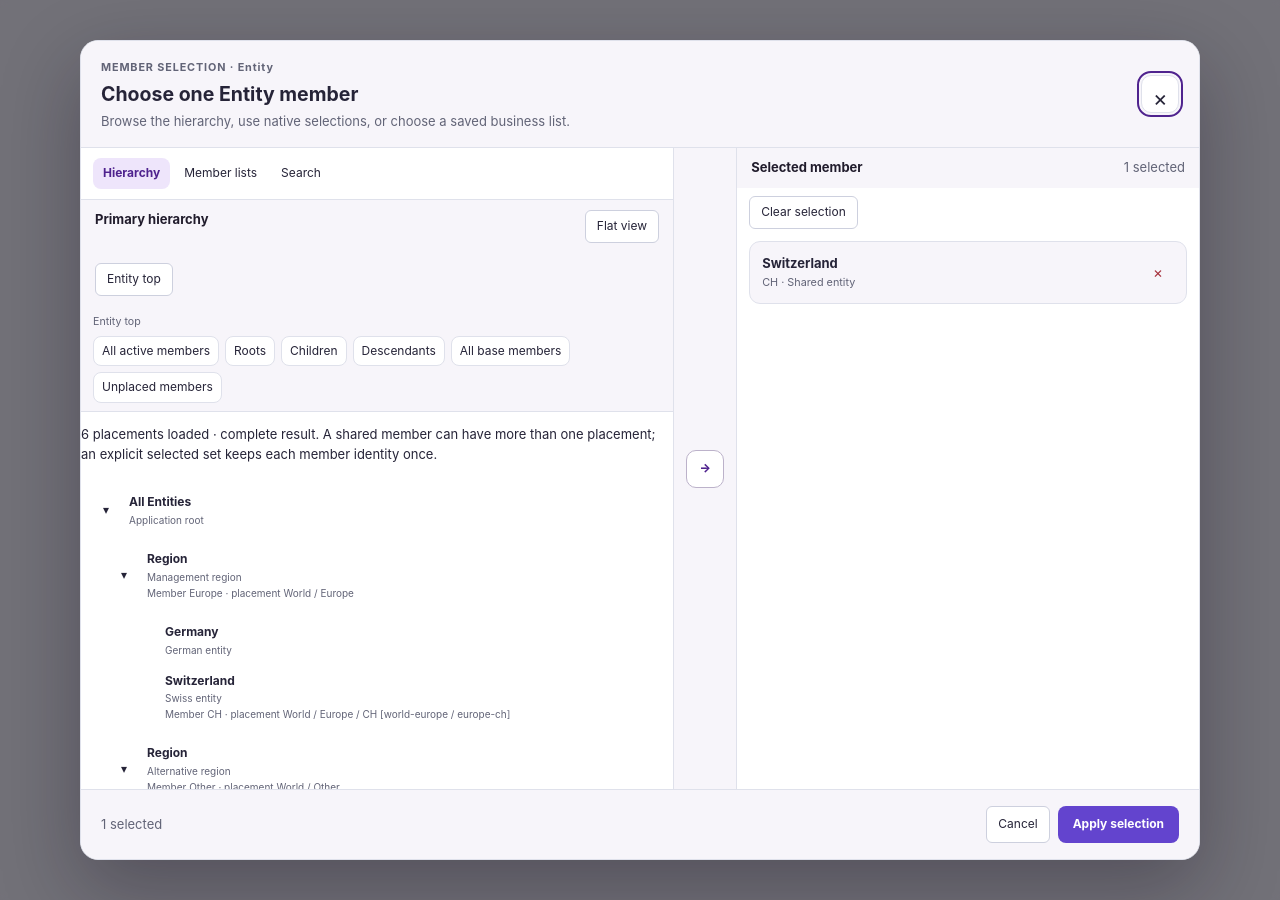
Test case: names expansion controls by exact member and placement when parent labels repeat
Click the button named "Collapse Region (Europe) · World / Europe [world-europe]".
click(124, 575)  # box left=109, top=544, right=139, bottom=607
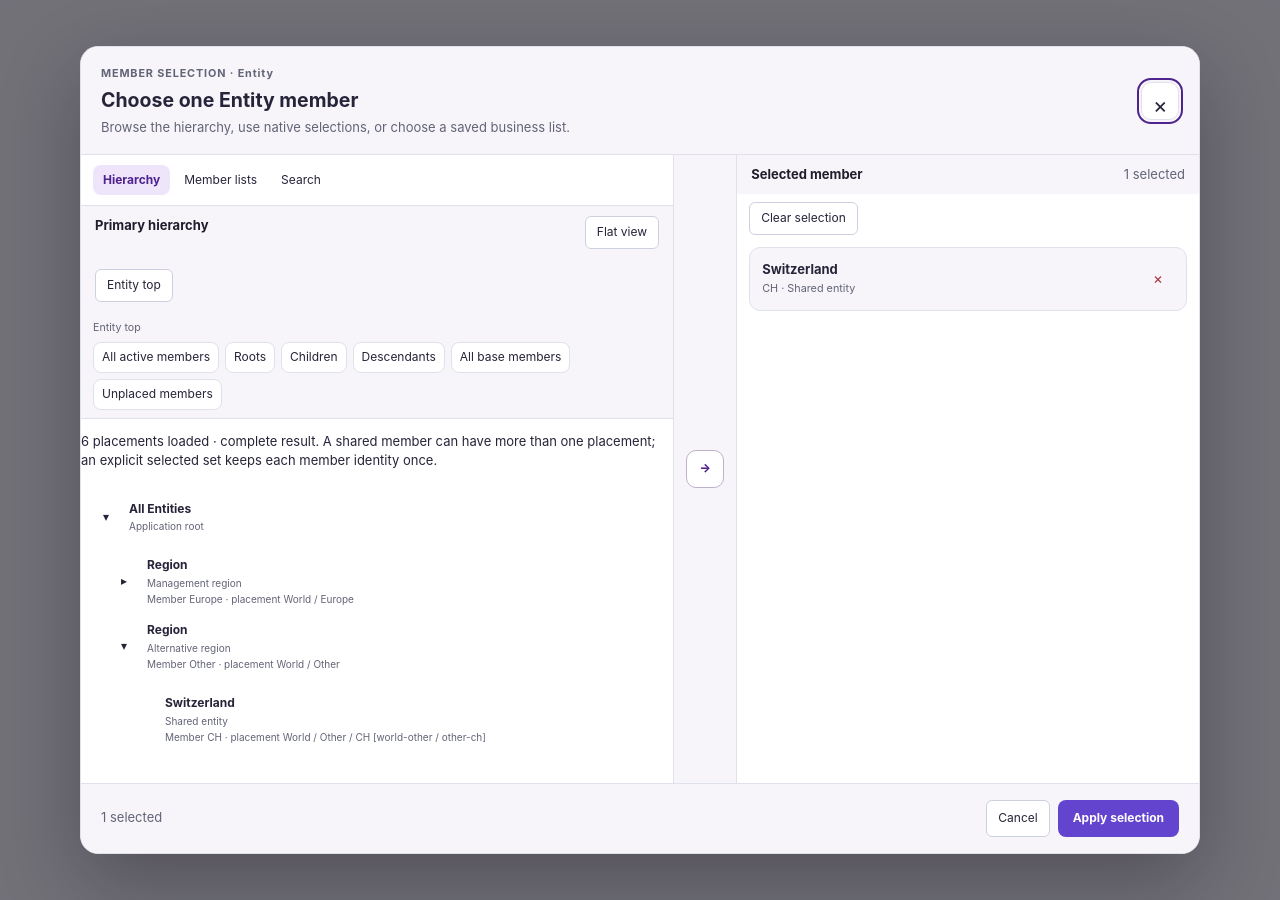
Check: the button named "Expand Region (Europe) · World / Europe [world-europe]" is collapsed
Check: the button named "Choose Switzerland (CH) · World / Other / CH [world-other / other-ch]" is shown, box left=157, top=688, right=663, bottom=751
Click the button named "Expand Region (Europe) · World / Europe [world-europe]".
click(124, 582)  # box left=109, top=550, right=139, bottom=613
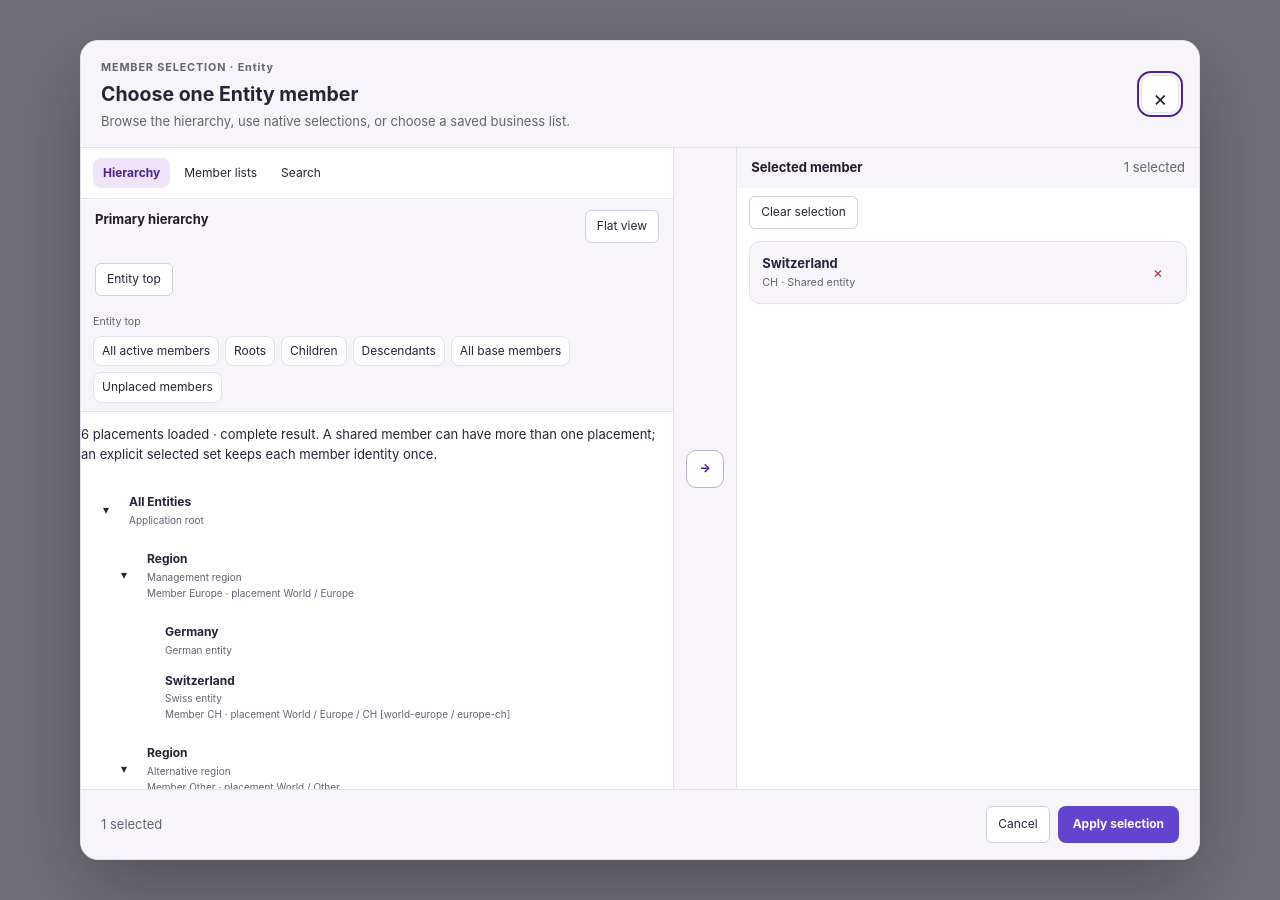
Click the button named "Choose Switzerland (CH) · World / Europe / CH [world-europe / europe-ch]".
click(200, 680)  # box left=157, top=666, right=663, bottom=728
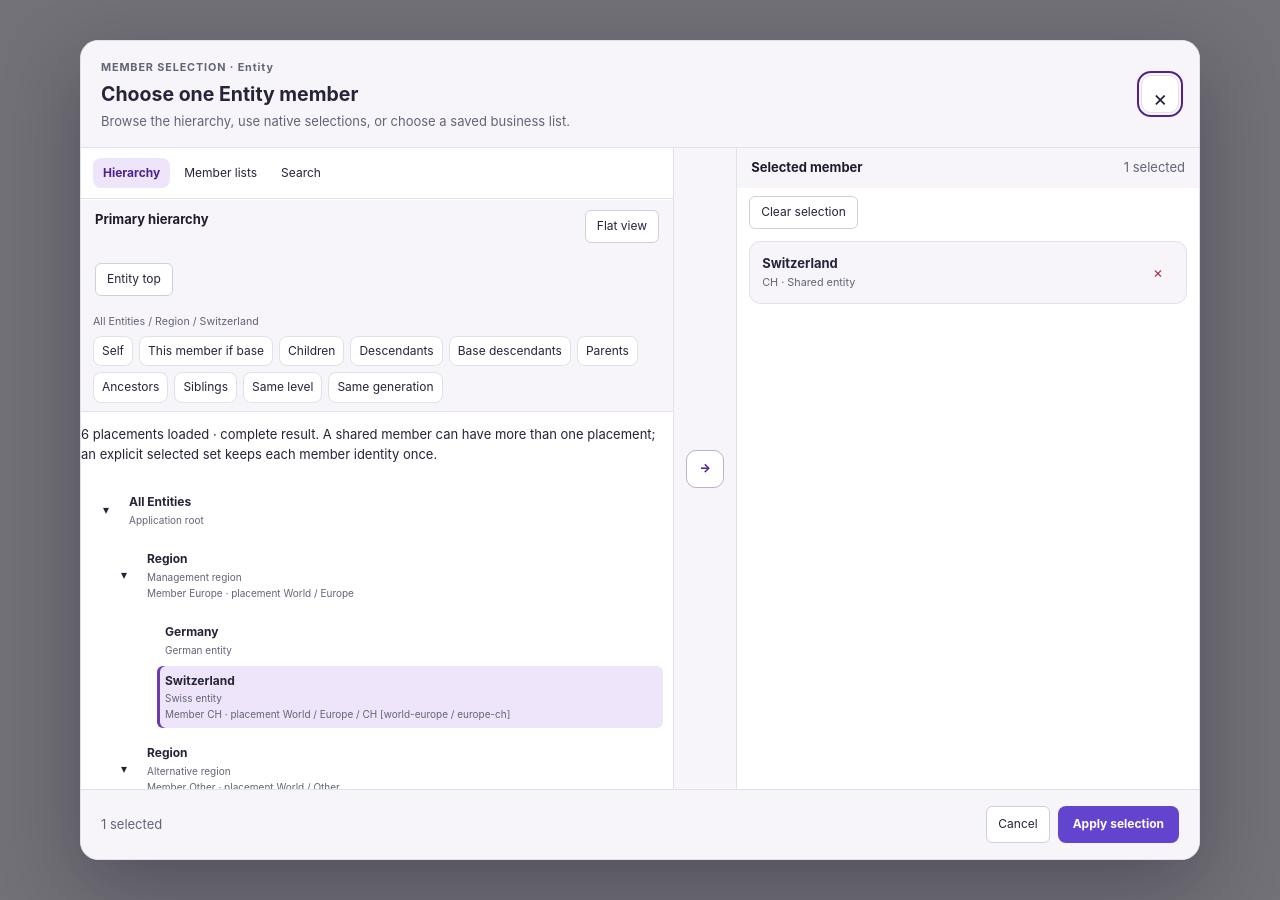
Click the button "Base descendants".
click(510, 351)  # box left=449, top=336, right=571, bottom=366
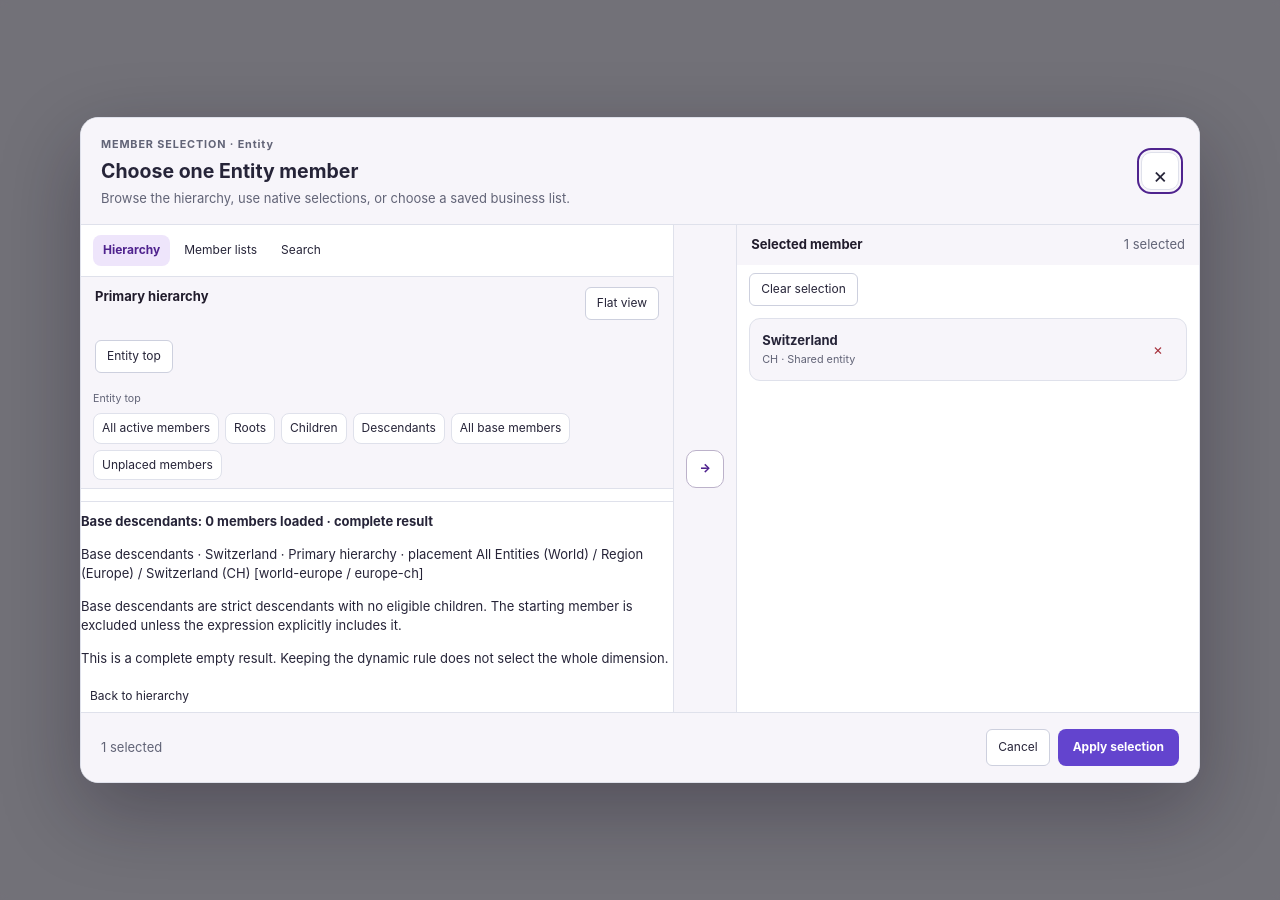
Check: the text "placement All Entities (World) / Region (Europe) / Switzerland (CH) [world-europe / europe-ch]" is shown, box left=81, top=546, right=643, bottom=581
